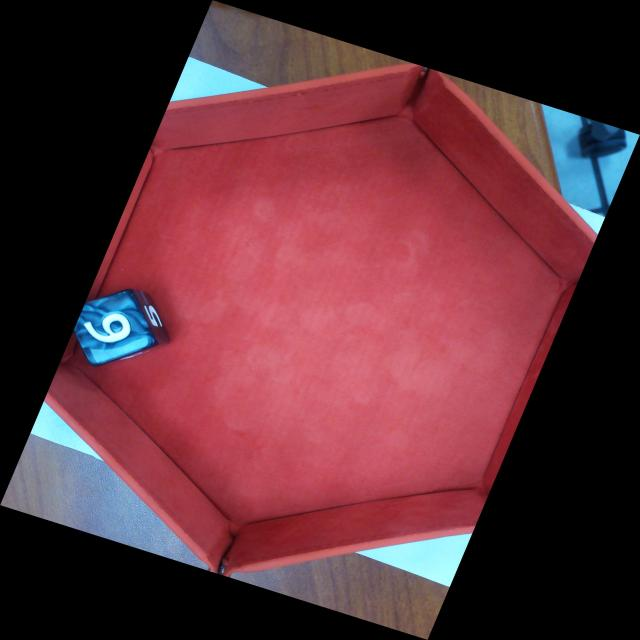dice: (65, 286, 161, 370)
